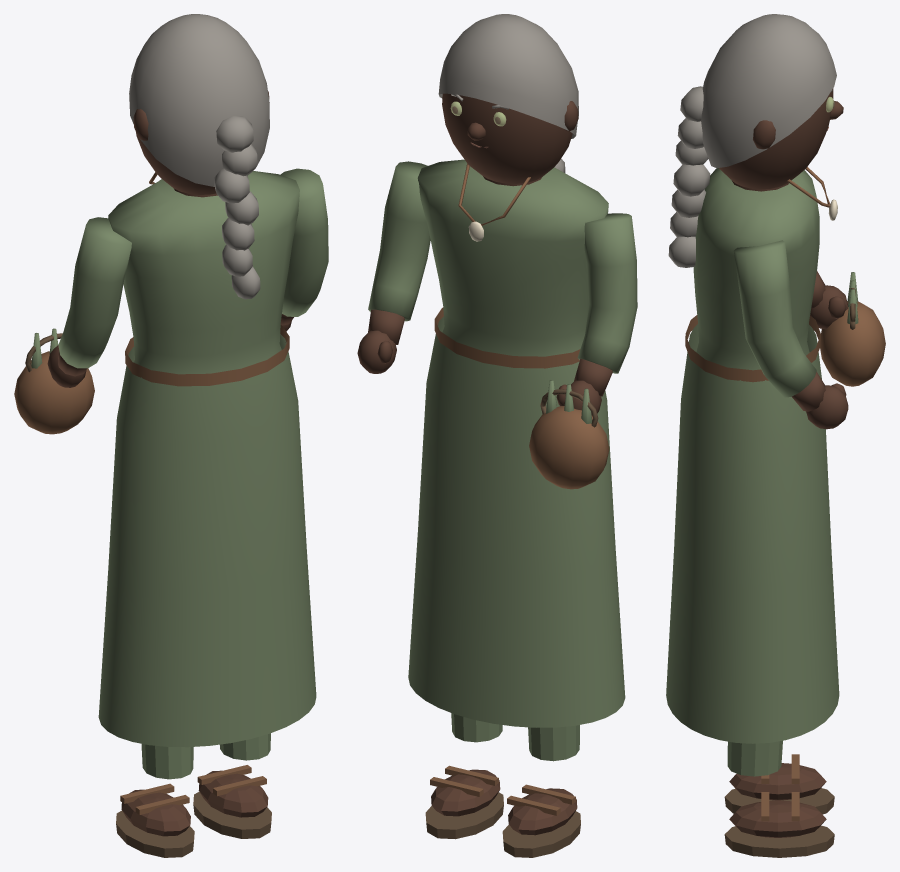
Rendered from SM_NPC_ALGA.glb.
3 renders of one model, left to right at view 1: azimuth 30°, elevation 25°; view 2: azimuth 150°, elevation 25°; view 3: azimuth 270°, elevation 25°, orthographic.
Parts seen in each view (by area): view 1: SM_NPC_ALGA_BODY, SM_NPC_ALGA_HAIR, SM_NPC_ALGA_ARM_L, SM_NPC_ALGA_LEG_L, SM_NPC_ALGA_LEG_R, SM_NPC_ALGA_ARM_R, SM_NPC_ALGA_HEAD; view 2: SM_NPC_ALGA_BODY, SM_NPC_ALGA_ARM_L, SM_NPC_ALGA_HAIR, SM_NPC_ALGA_ARM_R, SM_NPC_ALGA_HEAD, SM_NPC_ALGA_LEG_L, SM_NPC_ALGA_LEG_R; view 3: SM_NPC_ALGA_BODY, SM_NPC_ALGA_HAIR, SM_NPC_ALGA_ARM_R, SM_NPC_ALGA_LEG_R, SM_NPC_ALGA_ARM_L, SM_NPC_ALGA_HEAD, SM_NPC_ALGA_LEG_L.
Boxes of the visible parts, box(x1,y1,x2,y2) form: SM_NPC_ALGA_BODY: box(98, 171, 316, 747); SM_NPC_ALGA_HAIR: box(129, 14, 269, 299); SM_NPC_ALGA_ARM_L: box(14, 217, 131, 434); SM_NPC_ALGA_LEG_L: box(116, 744, 194, 857); SM_NPC_ALGA_LEG_R: box(193, 733, 271, 838); SM_NPC_ALGA_ARM_R: box(280, 168, 328, 331); SM_NPC_ALGA_HEAD: box(133, 91, 269, 194); SM_NPC_ALGA_BODY: box(408, 159, 625, 727); SM_NPC_ALGA_ARM_L: box(529, 213, 637, 489); SM_NPC_ALGA_HAIR: box(438, 14, 578, 172); SM_NPC_ALGA_ARM_R: box(357, 161, 430, 373); SM_NPC_ALGA_HEAD: box(442, 93, 578, 183); SM_NPC_ALGA_LEG_L: box(502, 725, 580, 857); SM_NPC_ALGA_LEG_R: box(425, 713, 503, 839); SM_NPC_ALGA_BODY: box(666, 167, 839, 743); SM_NPC_ALGA_HAIR: box(668, 14, 836, 267); SM_NPC_ALGA_ARM_R: box(733, 240, 848, 429); SM_NPC_ALGA_LEG_R: box(724, 740, 834, 857); SM_NPC_ALGA_ARM_L: box(810, 271, 885, 386); SM_NPC_ALGA_HEAD: box(719, 88, 843, 189); SM_NPC_ALGA_LEG_L: box(724, 754, 834, 814).
Size of the model in its own units: 0.5878 by 1.71 by 0.4228.
